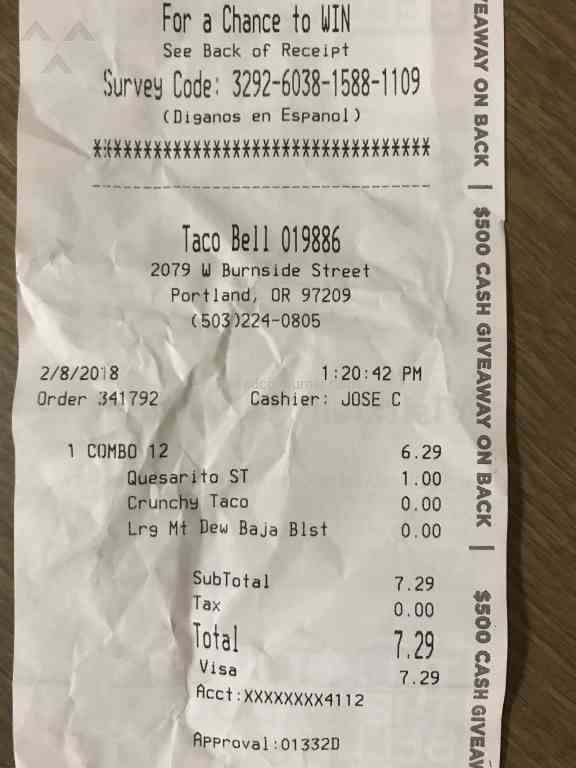Taco Bell: (173, 217, 277, 256)
